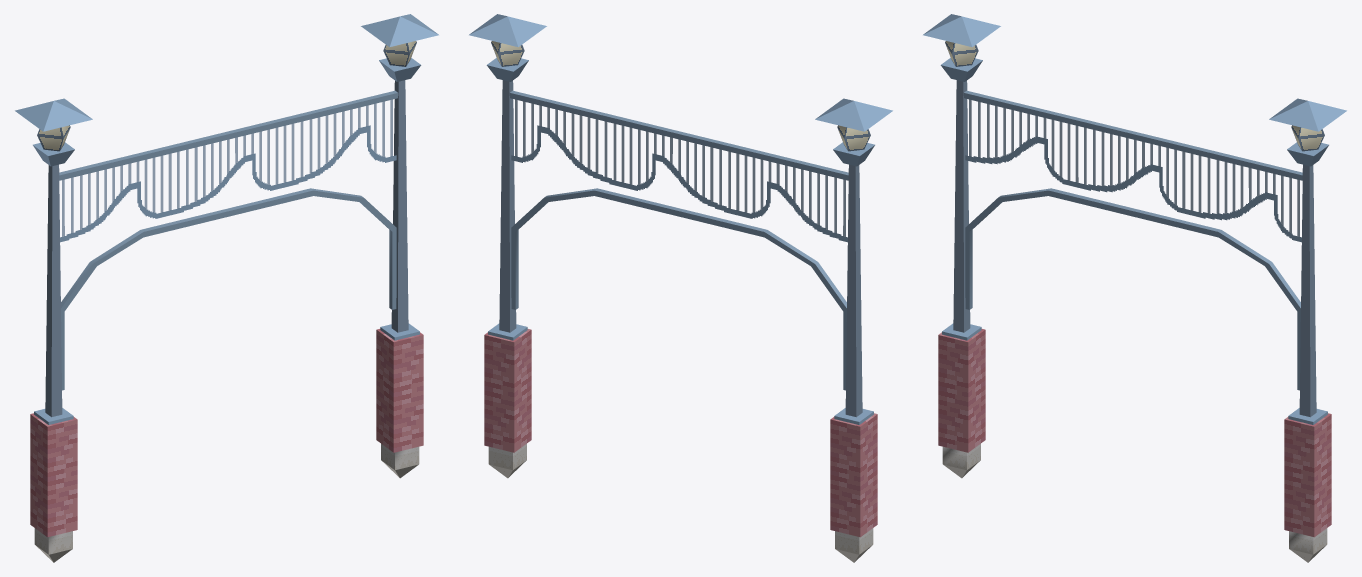
File: 046a_Park_Entrance.glb
The picture shows the model from 3 angles, left to right: view 1: azimuth 30°, elevation 25°; view 2: azimuth 150°, elevation 25°; view 3: azimuth 330°, elevation 25°; orthographic projection.
Parts seen in each view (by area): view 1: part_0; view 2: part_0; view 3: part_0.
Part boxes in pixels (<box>): part_0: <box>15,14,438,562</box>; part_0: <box>469,14,892,562</box>; part_0: <box>923,14,1346,562</box>.
Size of the model in its own units: 5.72 by 6.38 by 0.7214.
1 material, 1 textured.
